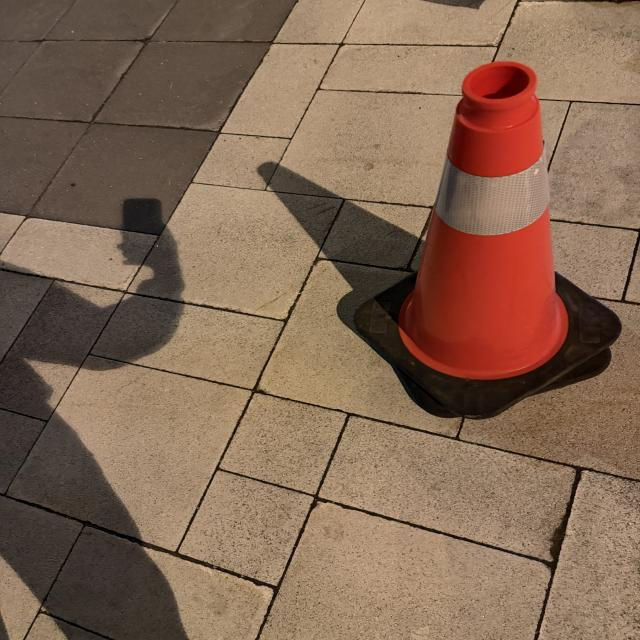Traffic Cone: (351, 63, 623, 420)
